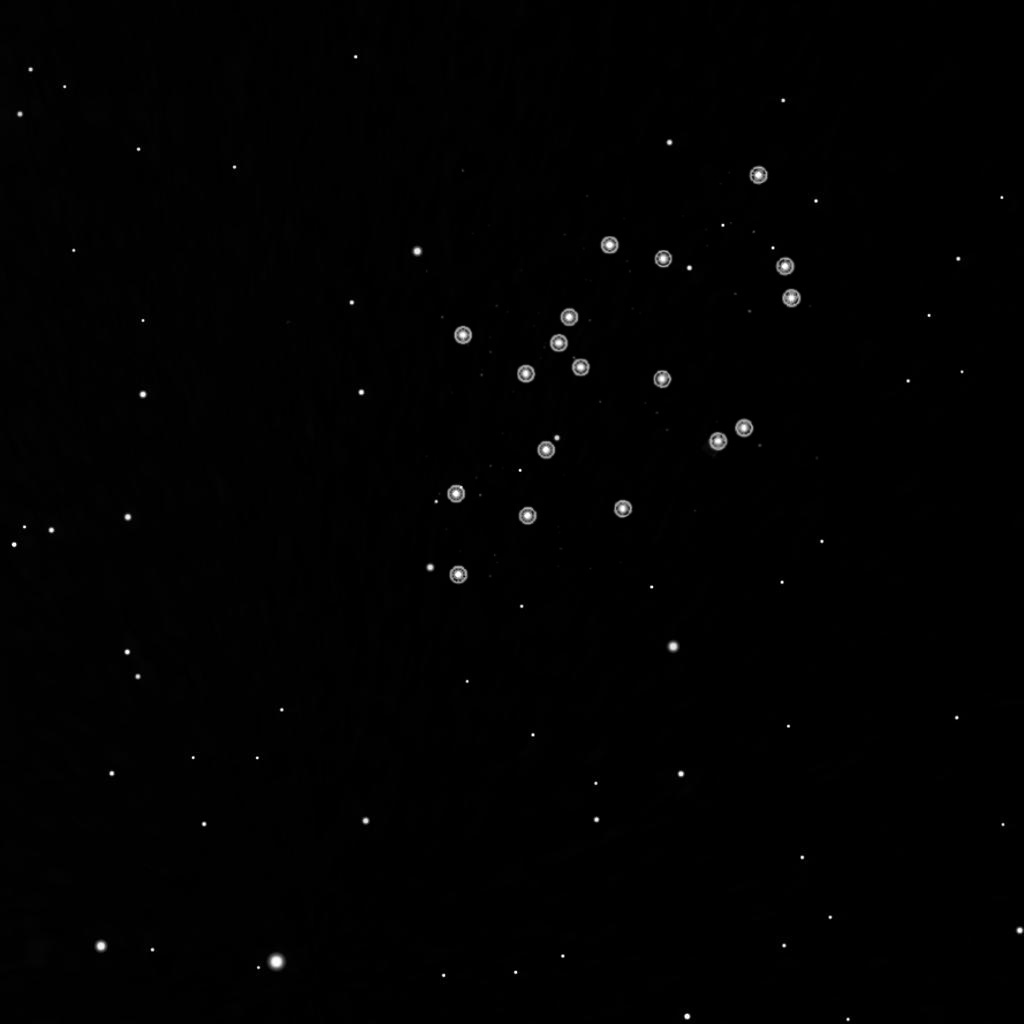canis_major: (511, 234, 675, 389)
